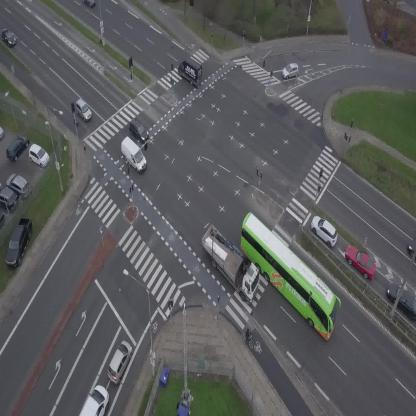bicycle: (241, 328, 257, 350)
bus: (223, 209, 354, 342)
car: (340, 240, 382, 284), (102, 338, 137, 386), (306, 211, 343, 249), (79, 382, 115, 416), (125, 118, 152, 145), (71, 97, 95, 124), (0, 26, 19, 49), (280, 62, 301, 80), (82, 0, 96, 8)
lorry: (190, 222, 272, 307), (114, 135, 152, 174), (173, 54, 210, 90)
